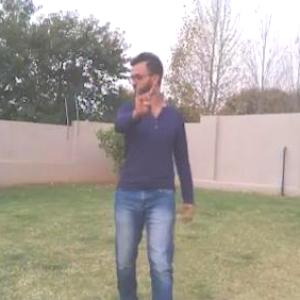takeoff-hand: (130, 82, 158, 120)
